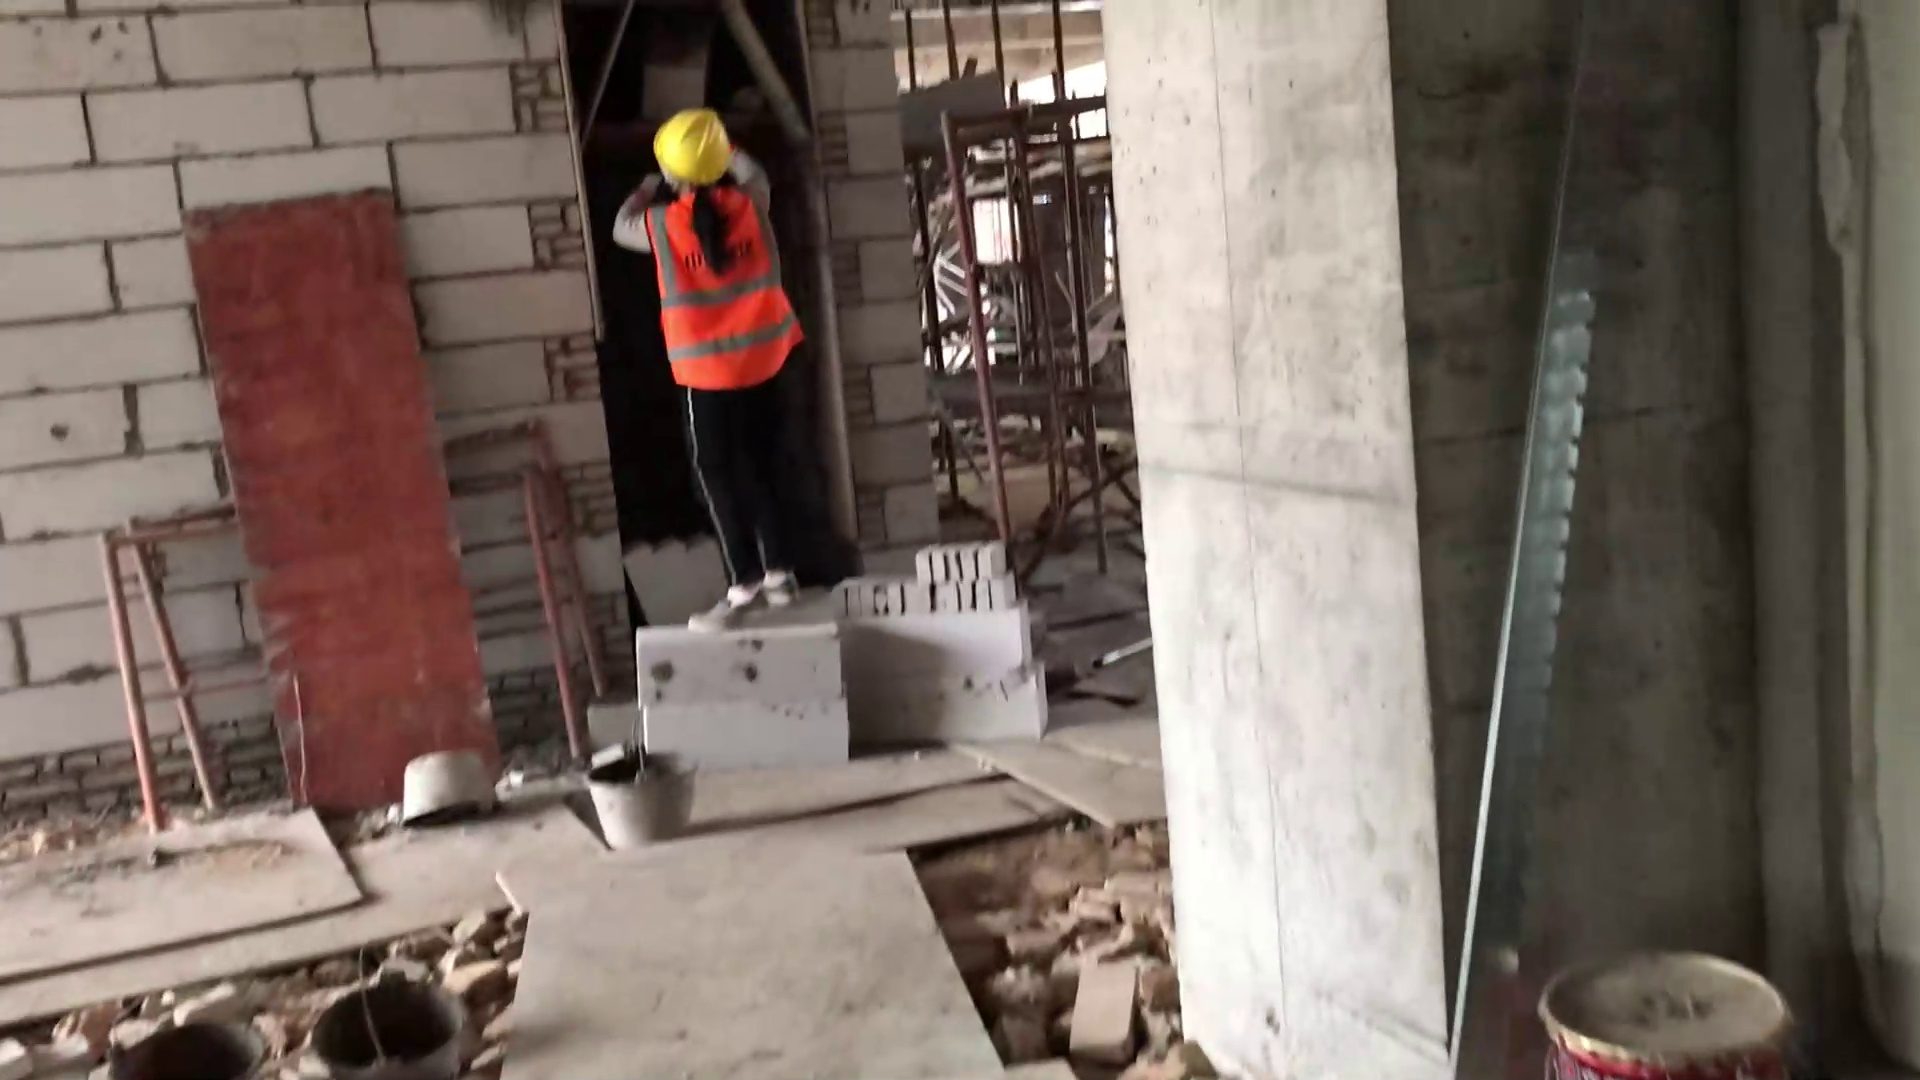brick: (624, 612, 865, 774), (819, 600, 1057, 764)
helmet: (648, 107, 750, 207)
person: (600, 97, 826, 640)
vest: (646, 188, 805, 400)
